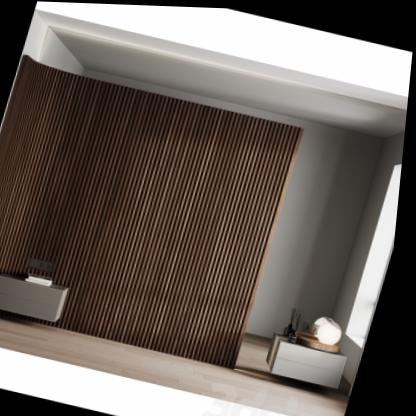Wall Panel: (0, 59, 394, 391)
